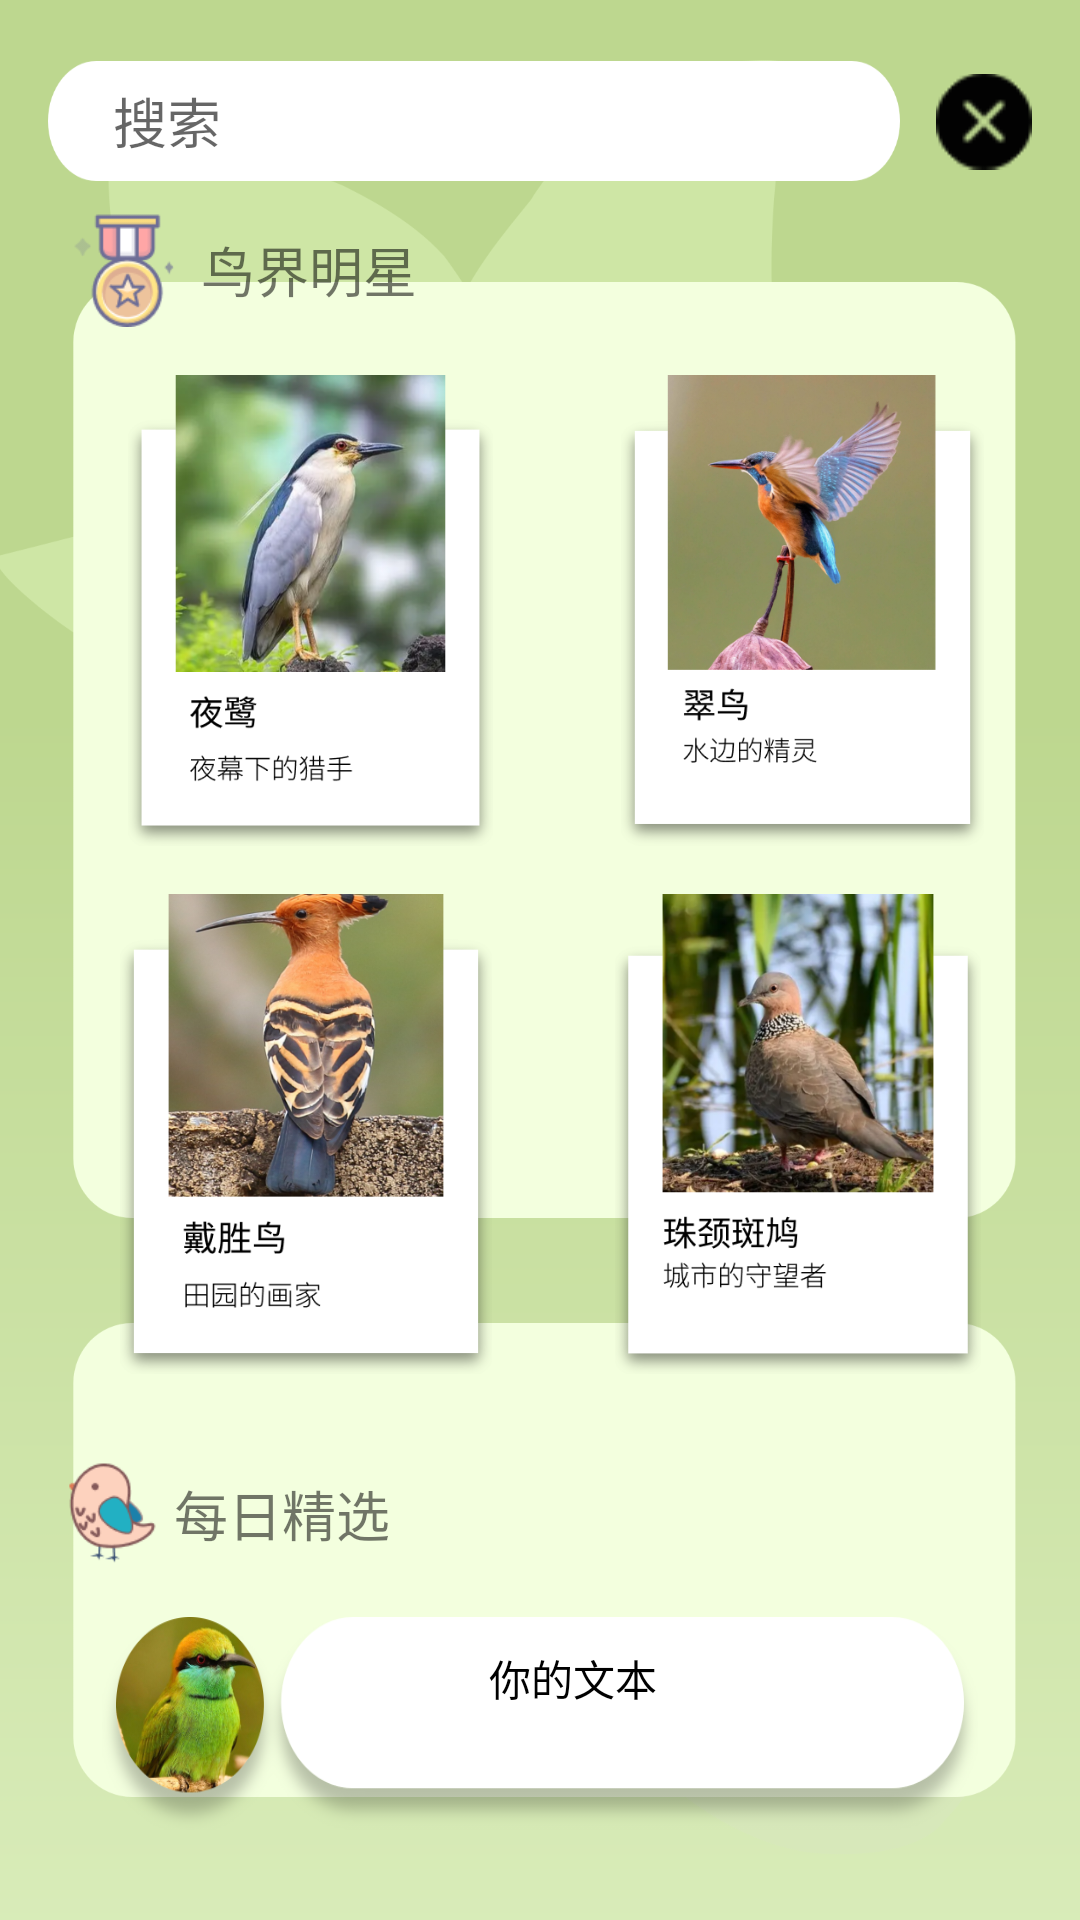

Named icons in this screenshot (1080x1920) and their centers, point (x, y):
cha: point (984, 122)
jiangpai: point (138, 270)
niao: point (102, 1513)
